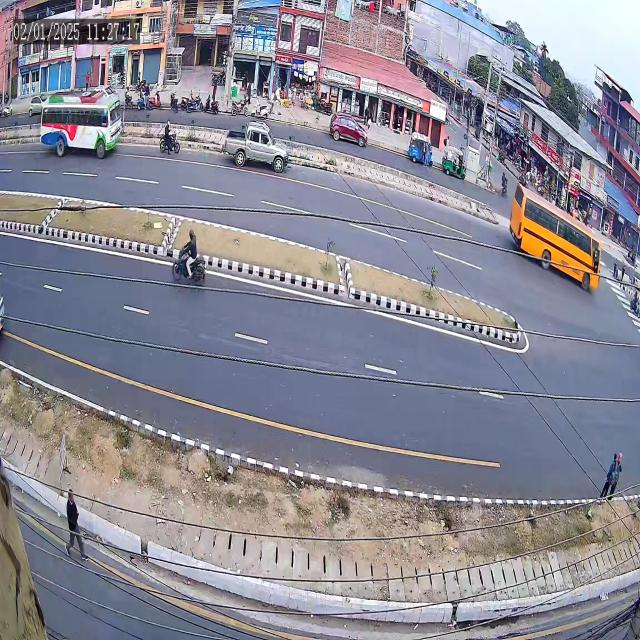bus: (32, 91, 128, 163)
motorcycle: (167, 205, 211, 306)
